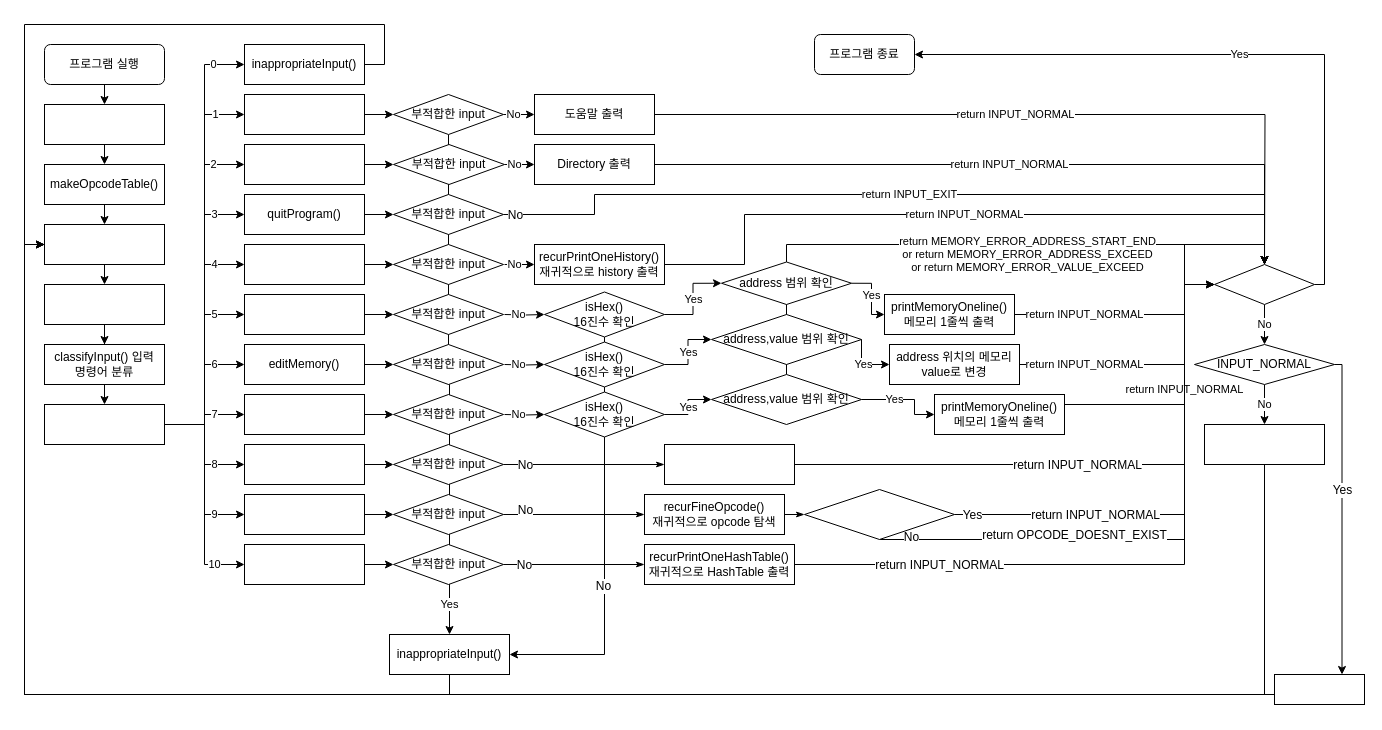
Image size: 1382x730. Some labels were removed from this diagram. Each missing label, with the centre of its shape:
"dumpMemory()" belongs at point (304, 314).
"fgets() 입력" belongs at point (104, 244).
"fillMemory()" belongs at point (304, 414).
"functionPointer[] 분류된 함수 실행" belongs at point (104, 424).
"help()" belongs at point (304, 114).
"INPUT_EXIT" belongs at point (1264, 284).
"instructionSetInit()" belongs at point (104, 124).
"opcode 찾기 성공" belongs at point (879, 514).
"opcodeList()" belongs at point (304, 564).
"opcodeMnemonic()" belongs at point (304, 514).
"parser() 입력 파싱" belongs at point (104, 304).
"printDirectory()" belongs at point (304, 164).
"printError() 에러구문 출력" belongs at point (1264, 444).
"printHistory()" belongs at point (304, 264).
"resetMemory()" belongs at point (304, 464).
"storeHistory()" belongs at point (1319, 689).
"메모리 0으로 초기화" belongs at point (729, 464).
